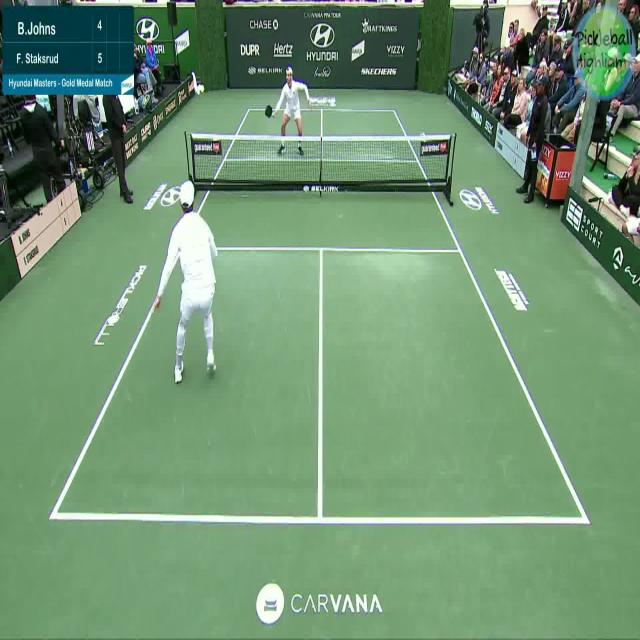Court: (51, 107, 591, 524)
ball: (197, 80, 207, 100)
